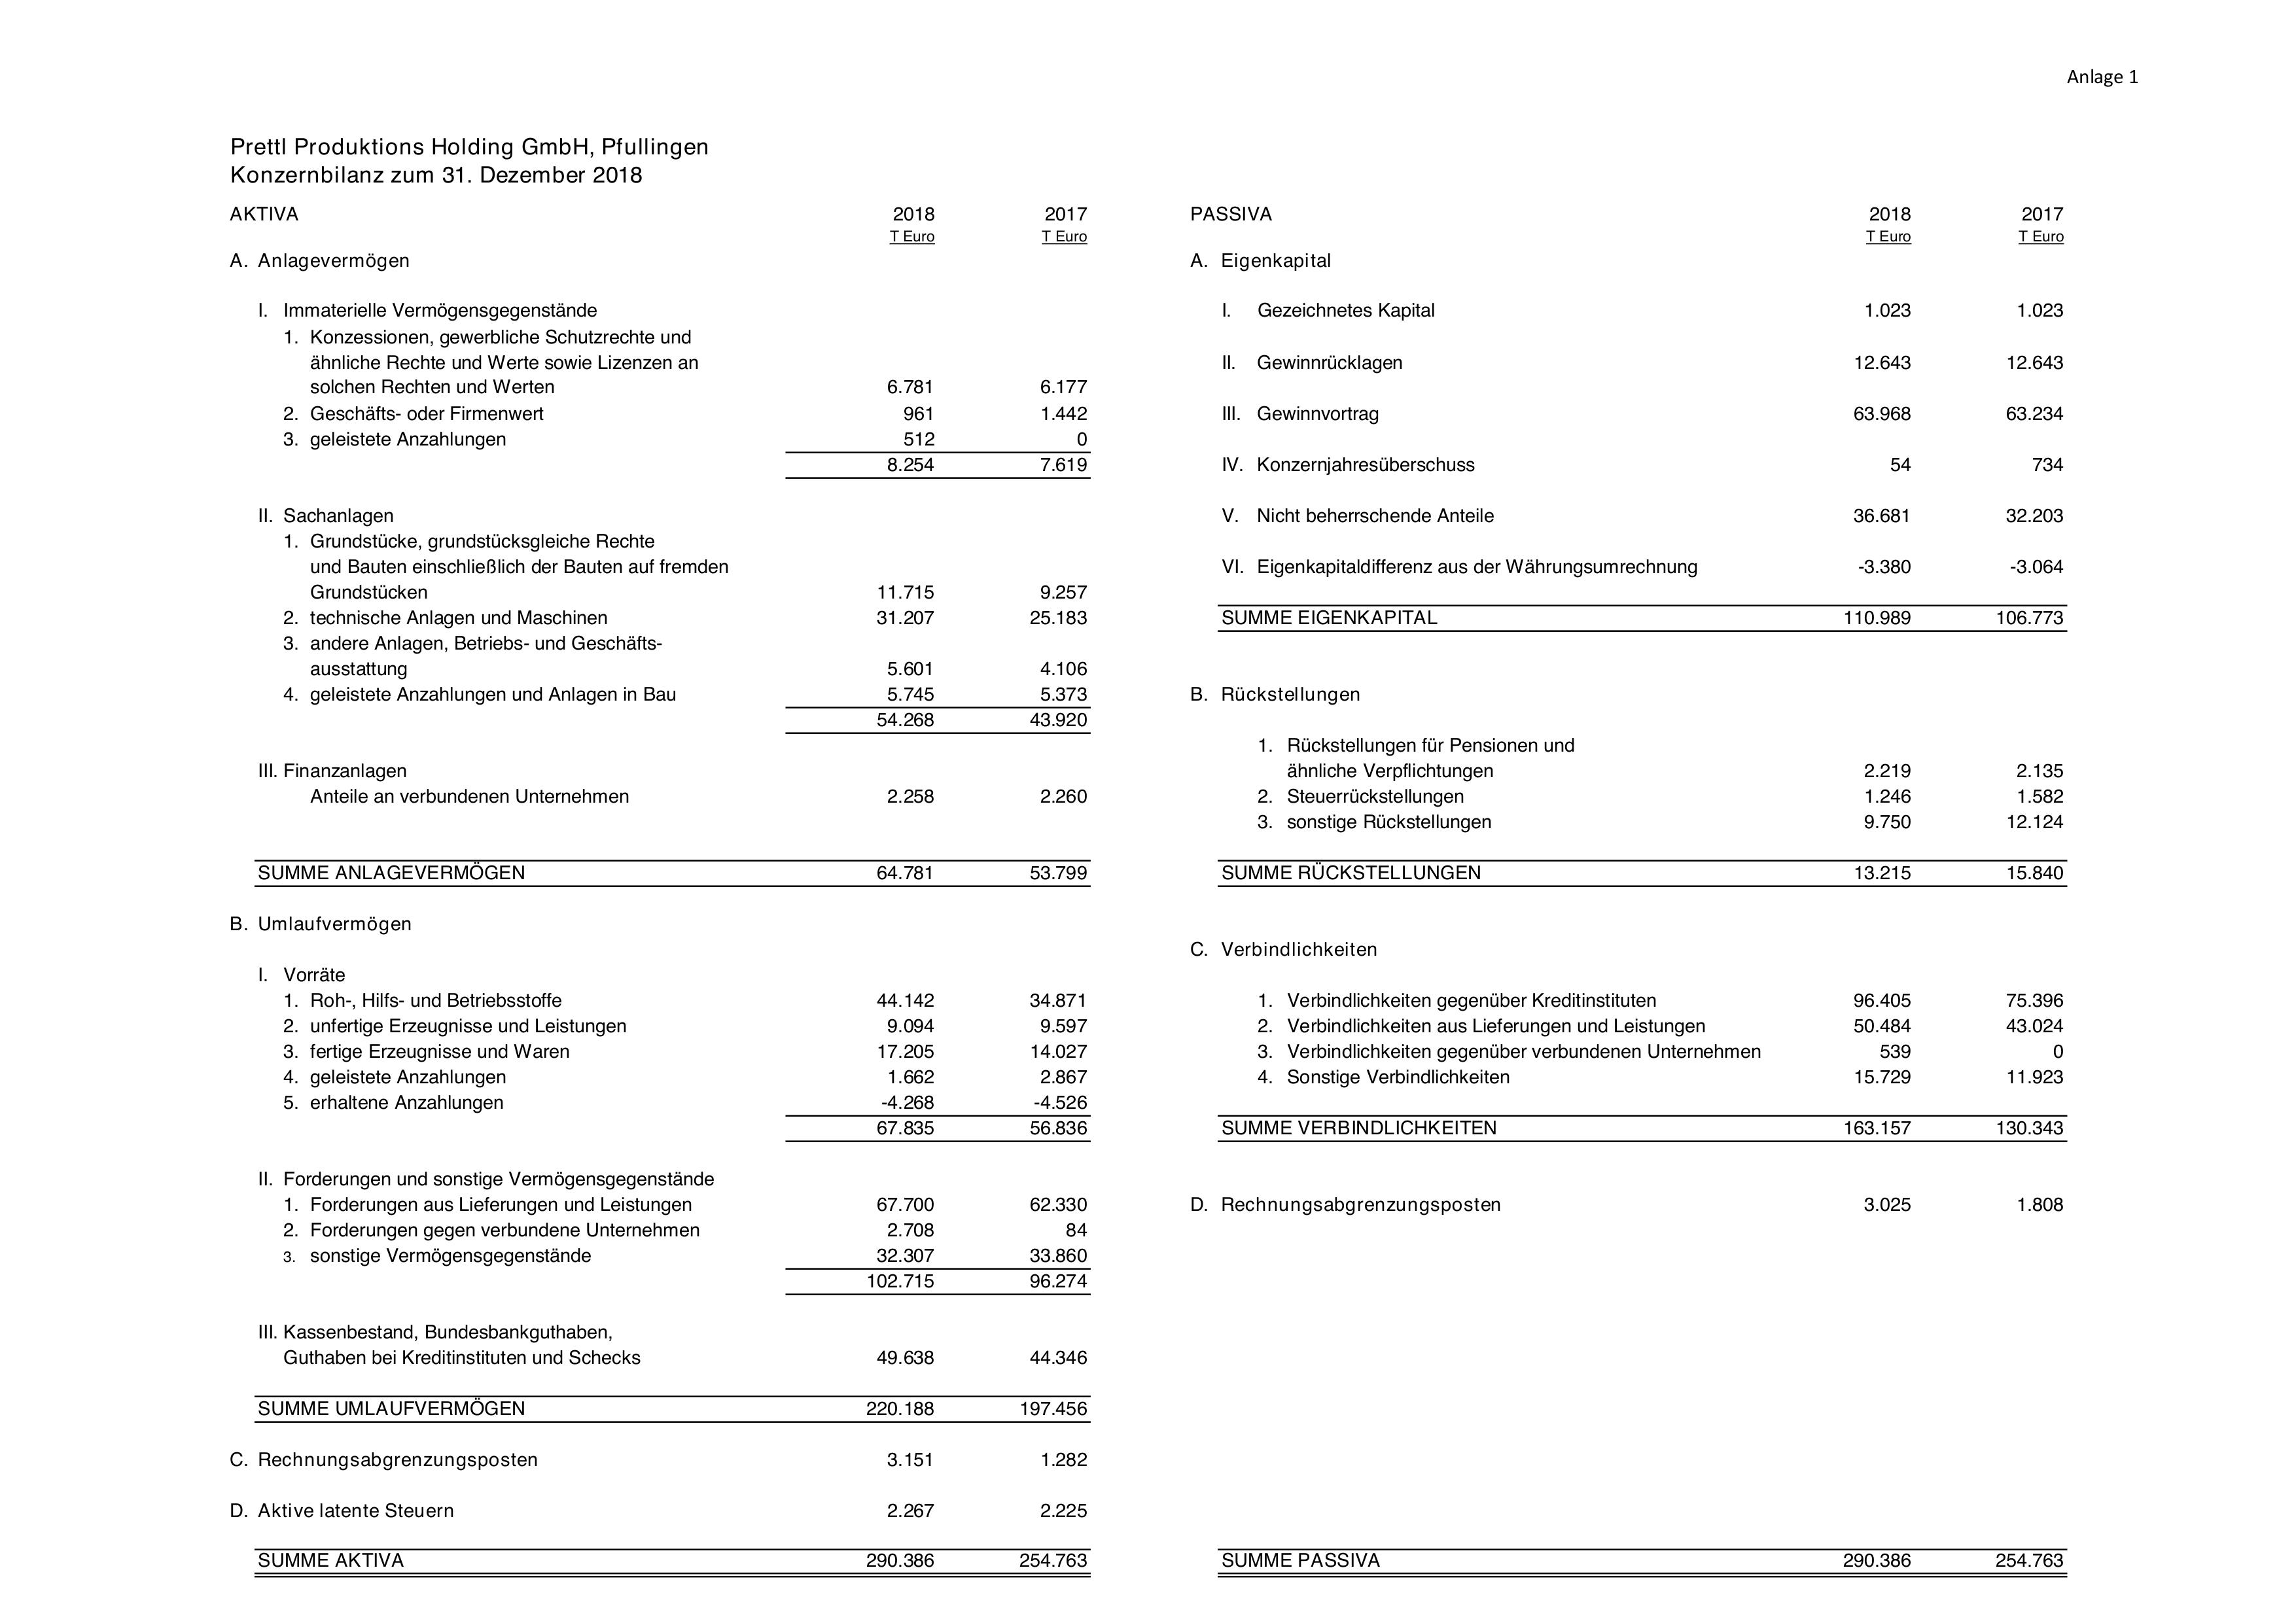Aktiva: (211, 191, 1124, 1588)
Passiva: (1124, 191, 2108, 1597)
